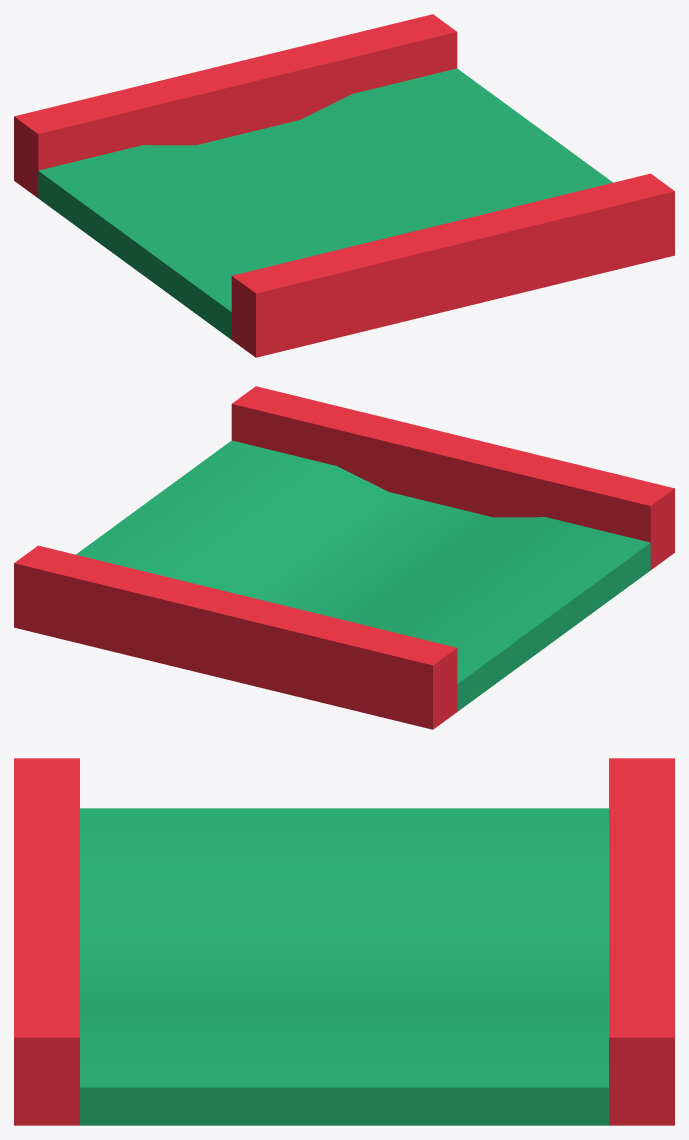
The model's file is crest.obj.
3 renders of one model, top to bottom at view 1: azimuth 30°, elevation 25°; view 2: azimuth 150°, elevation 25°; view 3: azimuth 270°, elevation 25°, orthographic. The views are drawn at different scales.
Parts seen in each view (by area): view 1: crest; view 2: crest; view 3: crest.
Part boxes in pixels (<box>): crest: <box>14,14,674,357</box>; crest: <box>14,386,674,729</box>; crest: <box>14,758,674,1125</box>.
Size of the model in its own units: 0.9999 by 0.1467 by 0.9999.
